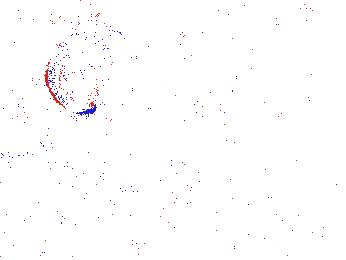moon jellyfish: (166, 33, 237, 128), (46, 31, 103, 114), (1, 75, 56, 158), (200, 48, 283, 101), (103, 42, 191, 80), (1, 33, 57, 84)
